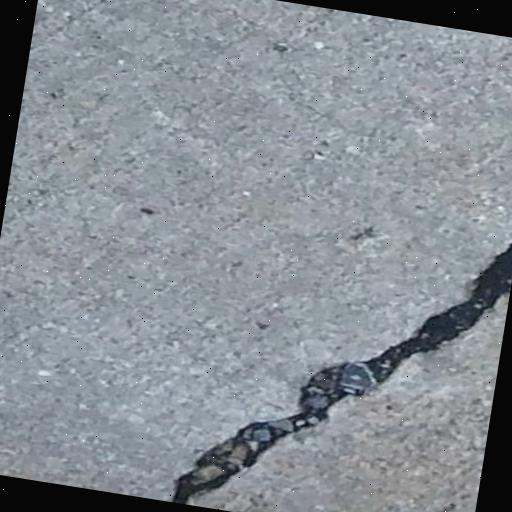spalling: (146, 227, 507, 502)
